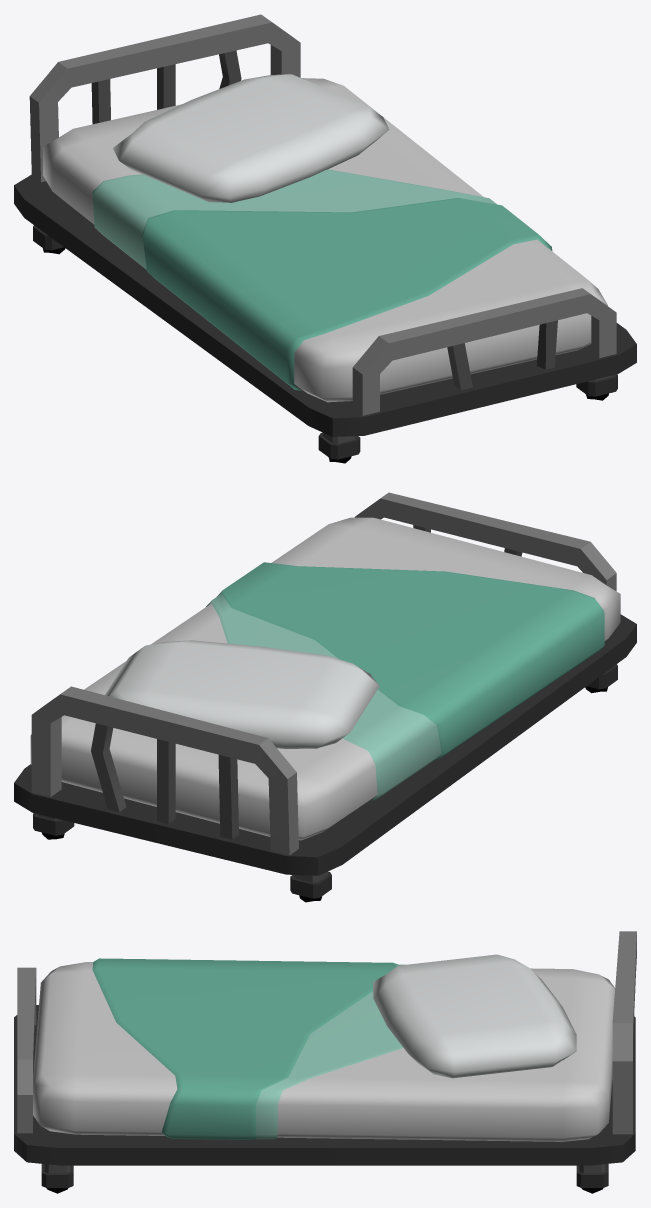
File: Bed 02.fbx
3 renders of one model, top to bottom at view 1: azimuth 30°, elevation 25°; view 2: azimuth 150°, elevation 25°; view 3: azimuth 270°, elevation 25°, orthographic. The views are drawn at different scales.
Visible parts, largest first — view 1: Bed_02; view 2: Bed_02; view 3: Bed_02.
Part boxes in pixels (x1,y1,x2,y2): Bed_02: (14,14,636,463); Bed_02: (14,492,636,902); Bed_02: (14,931,636,1193).
Size of the model in its own units: 134 by 66.72 by 243.
